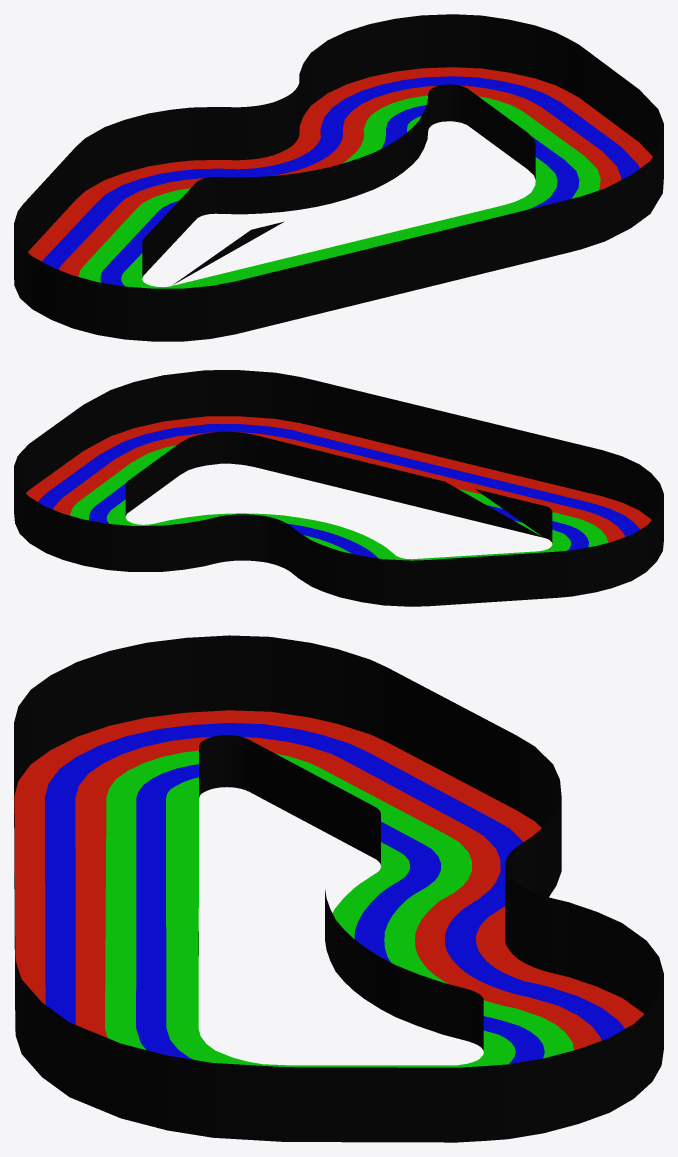
The model's file is track.fbx.
3 renders of one model, top to bottom at view 1: azimuth 30°, elevation 25°; view 2: azimuth 150°, elevation 25°; view 3: azimuth 270°, elevation 25°, orthographic. The views are drawn at different scales.
Visible parts, largest first — view 1: Circle; view 2: Circle; view 3: Circle.
Part boxes in pixels (box(x1,y1,x2,y2)): Circle: box(14, 14, 663, 341); Circle: box(14, 370, 663, 606); Circle: box(14, 635, 663, 1142).
Size of the model in its own units: 2033 by 164 by 1292.
